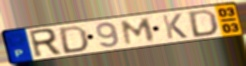9: (95, 21, 122, 49)
D: (188, 8, 220, 39), (59, 24, 90, 55)
K: (161, 12, 190, 40)
M: (120, 17, 157, 47)
R: (27, 27, 64, 60)
